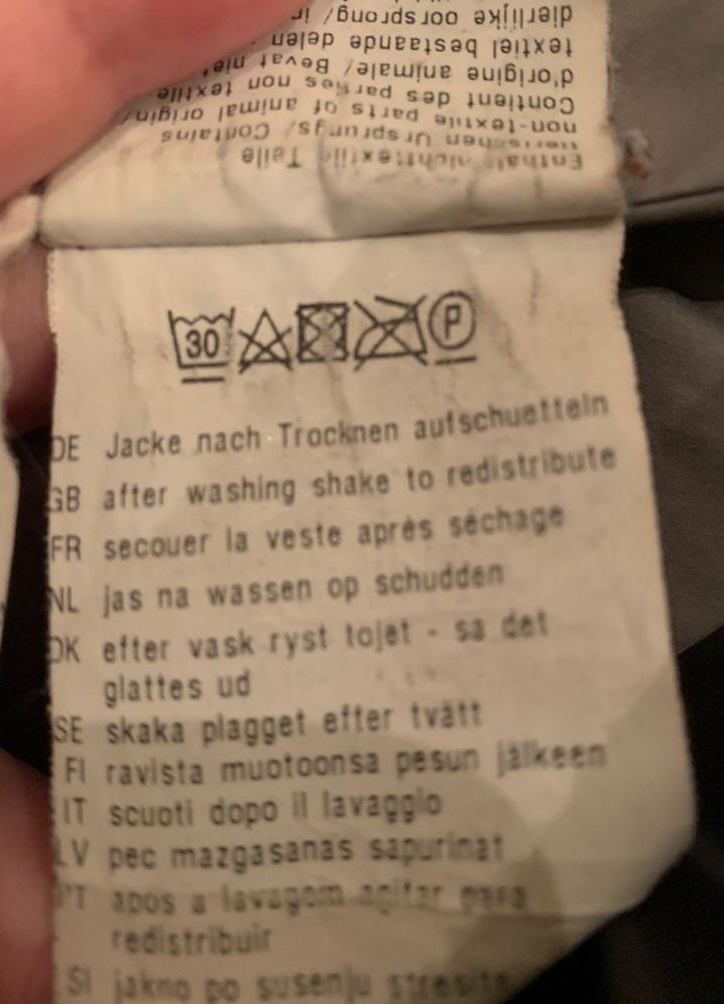do_not_bleach: (236, 300, 293, 374)
do_not_iron: (351, 289, 431, 367)
do_not_tumble_drying: (291, 297, 353, 370)
gentle_cleaning_with_pce: (426, 283, 481, 372)
wash_at_or_below_30_mild_fine_wash: (164, 299, 241, 386)
